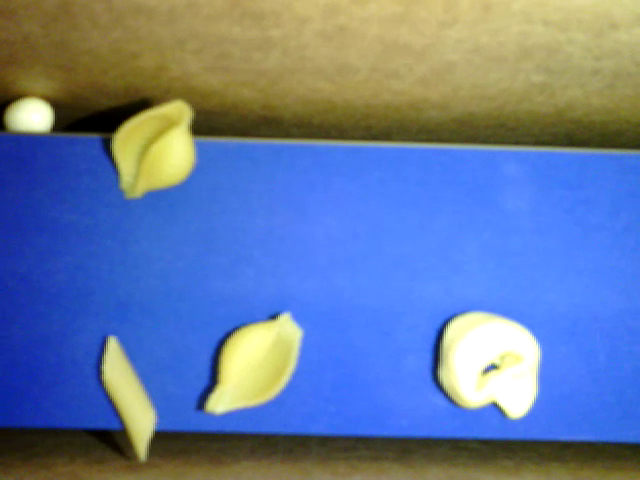penne: (100, 335, 157, 462)
shell: (201, 310, 304, 416), (111, 99, 199, 198)
tortellini: (436, 310, 542, 418)
